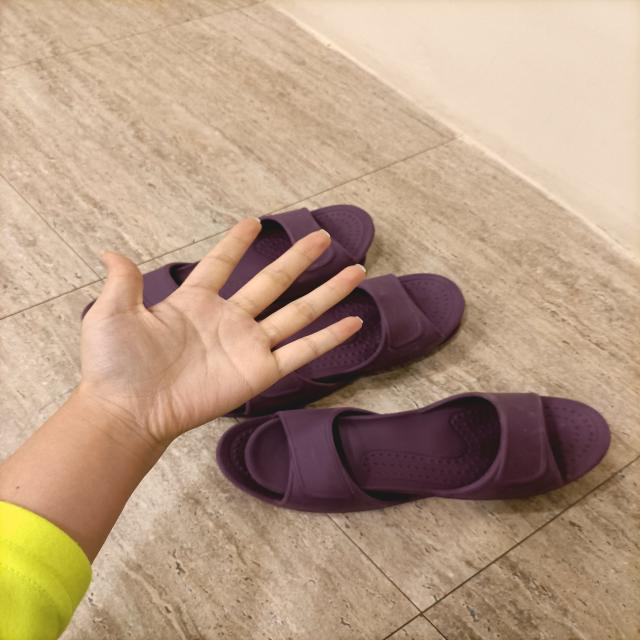no_glove: (58, 192, 377, 455)
